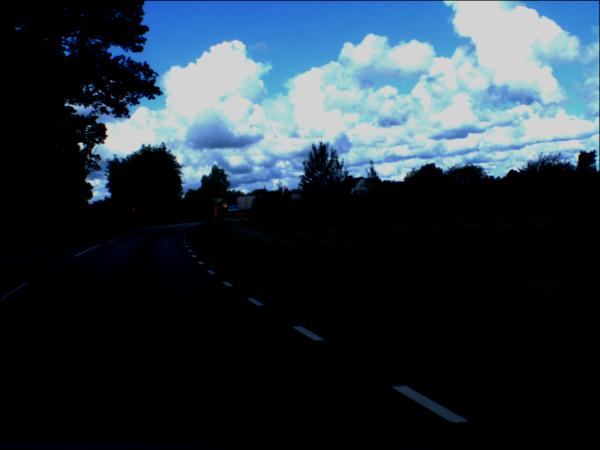50_SIGN: (224, 204, 230, 209), (132, 208, 137, 214)
